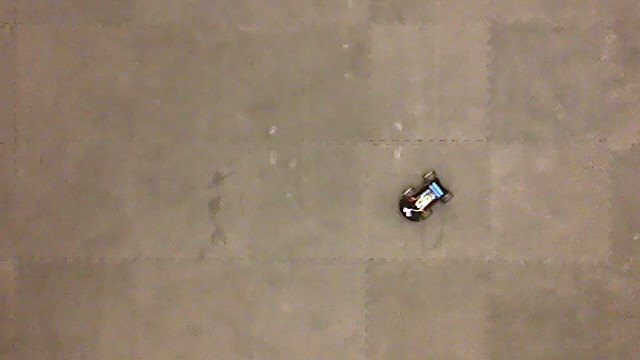Agent: (396, 168, 456, 223)
